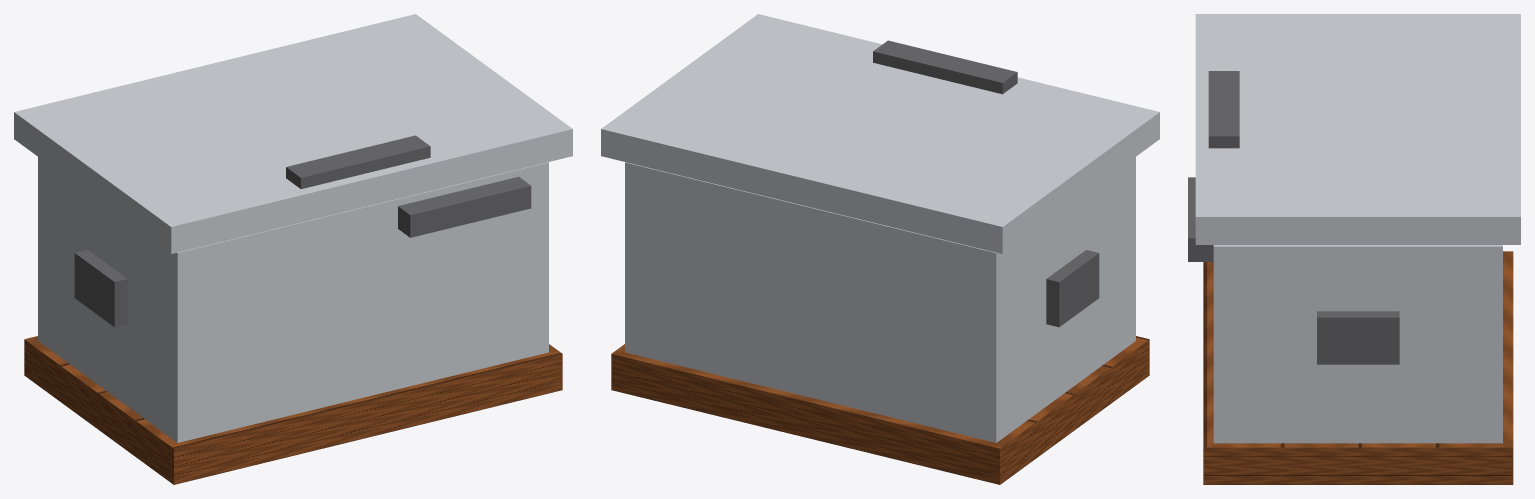
The model's file is safari-camp-and-bush-lodge-battery-box-46f0d5fd__37693.glb.
3 renders of one model, left to right at view 1: azimuth 30°, elevation 25°; view 2: azimuth 150°, elevation 25°; view 3: azimuth 270°, elevation 25°, orthographic. The views are drawn at different scales.
Parts seen in each view (by area): view 1: battery-box-steel, lid/steel, battery-box-timber, battery-box-charcoal, lid/charcoal; view 2: battery-box-steel, lid/steel, battery-box-timber, lid/charcoal, battery-box-charcoal; view 3: lid/steel, battery-box-steel, battery-box-timber, battery-box-charcoal, lid/charcoal.
Boxes of the visible parts, bbox=[...] form: battery-box-steel: bbox=[38, 157, 548, 442]; lid/steel: bbox=[14, 14, 572, 253]; battery-box-timber: bbox=[24, 336, 562, 484]; battery-box-charcoal: bbox=[74, 176, 531, 327]; lid/charcoal: bbox=[286, 135, 430, 189]; battery-box-steel: bbox=[625, 157, 1135, 442]; lid/steel: bbox=[601, 14, 1159, 253]; battery-box-timber: bbox=[611, 336, 1149, 484]; lid/charcoal: bbox=[873, 40, 1017, 94]; battery-box-charcoal: bbox=[1046, 250, 1099, 327]; lid/steel: bbox=[1195, 14, 1520, 244]; battery-box-steel: bbox=[1213, 245, 1502, 443]; battery-box-timber: bbox=[1203, 251, 1513, 484]; battery-box-charcoal: bbox=[1188, 177, 1399, 364]; lid/charcoal: bbox=[1208, 71, 1239, 148].
Size of the model in its own units: 0.93 by 0.605 by 0.645.
3 materials, 1 textured.
